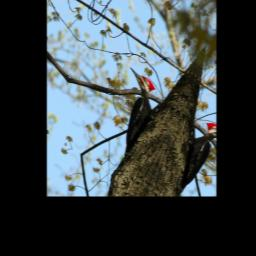Woodpecker: (98, 64, 167, 165)
